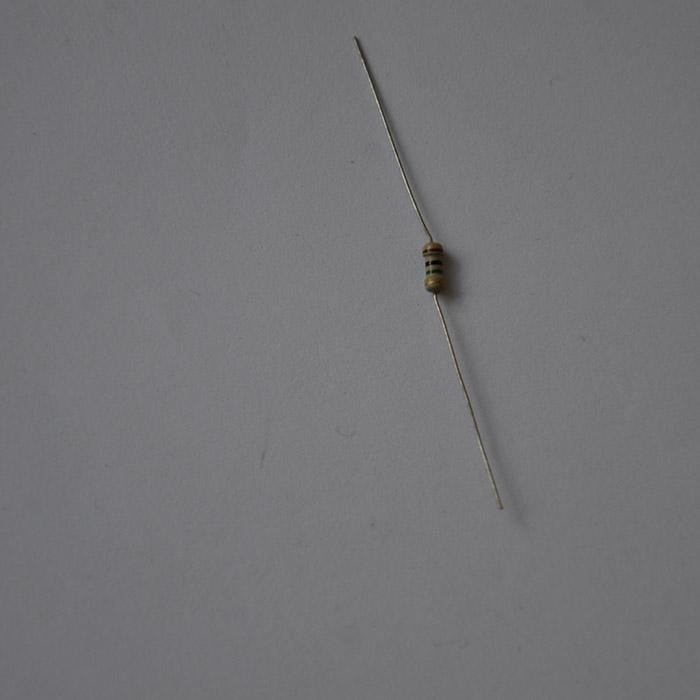resistor: (421, 240, 445, 293)
